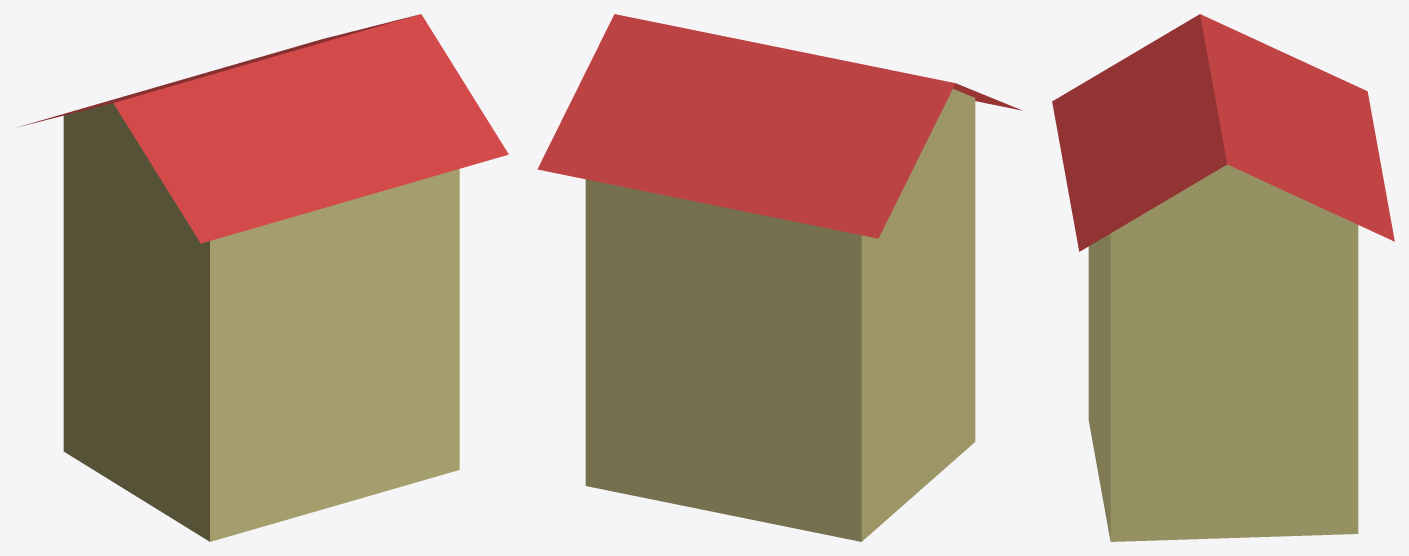
3 views of the same model, side by side, from view 1: azimuth 30°, elevation 25°; view 2: azimuth 150°, elevation 25°; view 3: azimuth 270°, elevation 25° (orthographic). The views are drawn at different scales.
Size of the model in its own units: 8.37 by 7.55 by 9.43.
